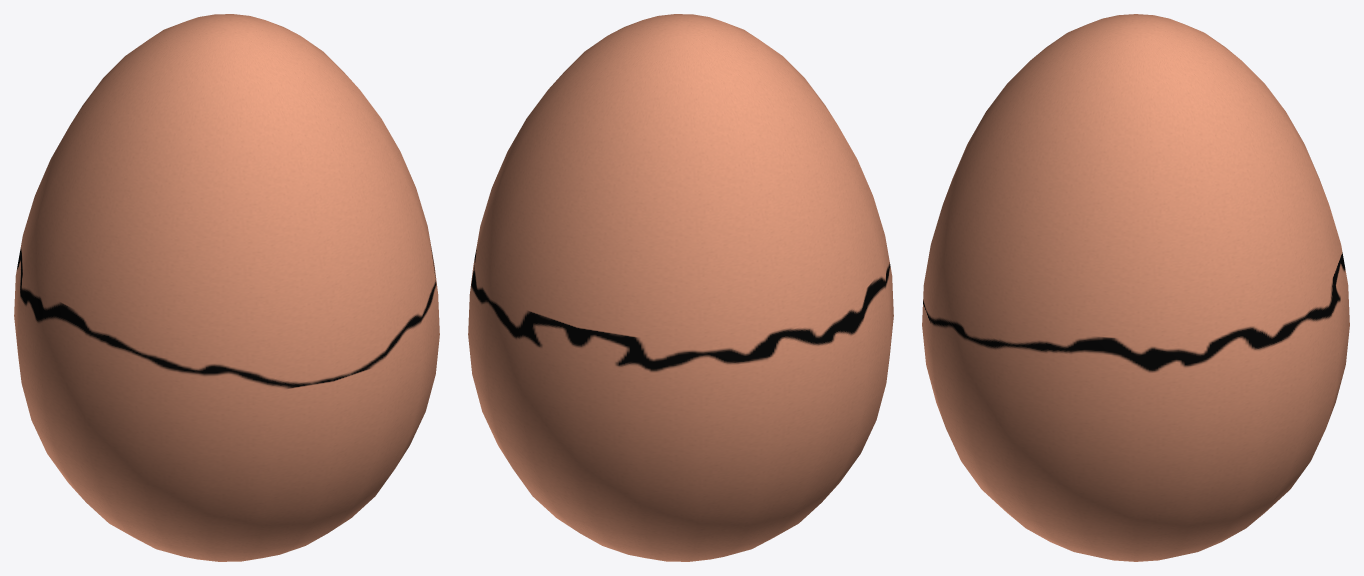
The model's file is egg_2.fbx.
The picture shows the model from 3 angles, left to right: view 1: azimuth 30°, elevation 25°; view 2: azimuth 150°, elevation 25°; view 3: azimuth 270°, elevation 25°; orthographic projection.
Visible parts, largest first — view 1: pSphere1; view 2: pSphere1; view 3: pSphere1.
Part boxes in pixels (box(x1,y1,x2,y2)): pSphere1: box(14, 14, 439, 561); pSphere1: box(468, 14, 893, 561); pSphere1: box(922, 14, 1349, 561).
Bounding box in the file's own units: 5.07 × 6.78 × 5.07.
